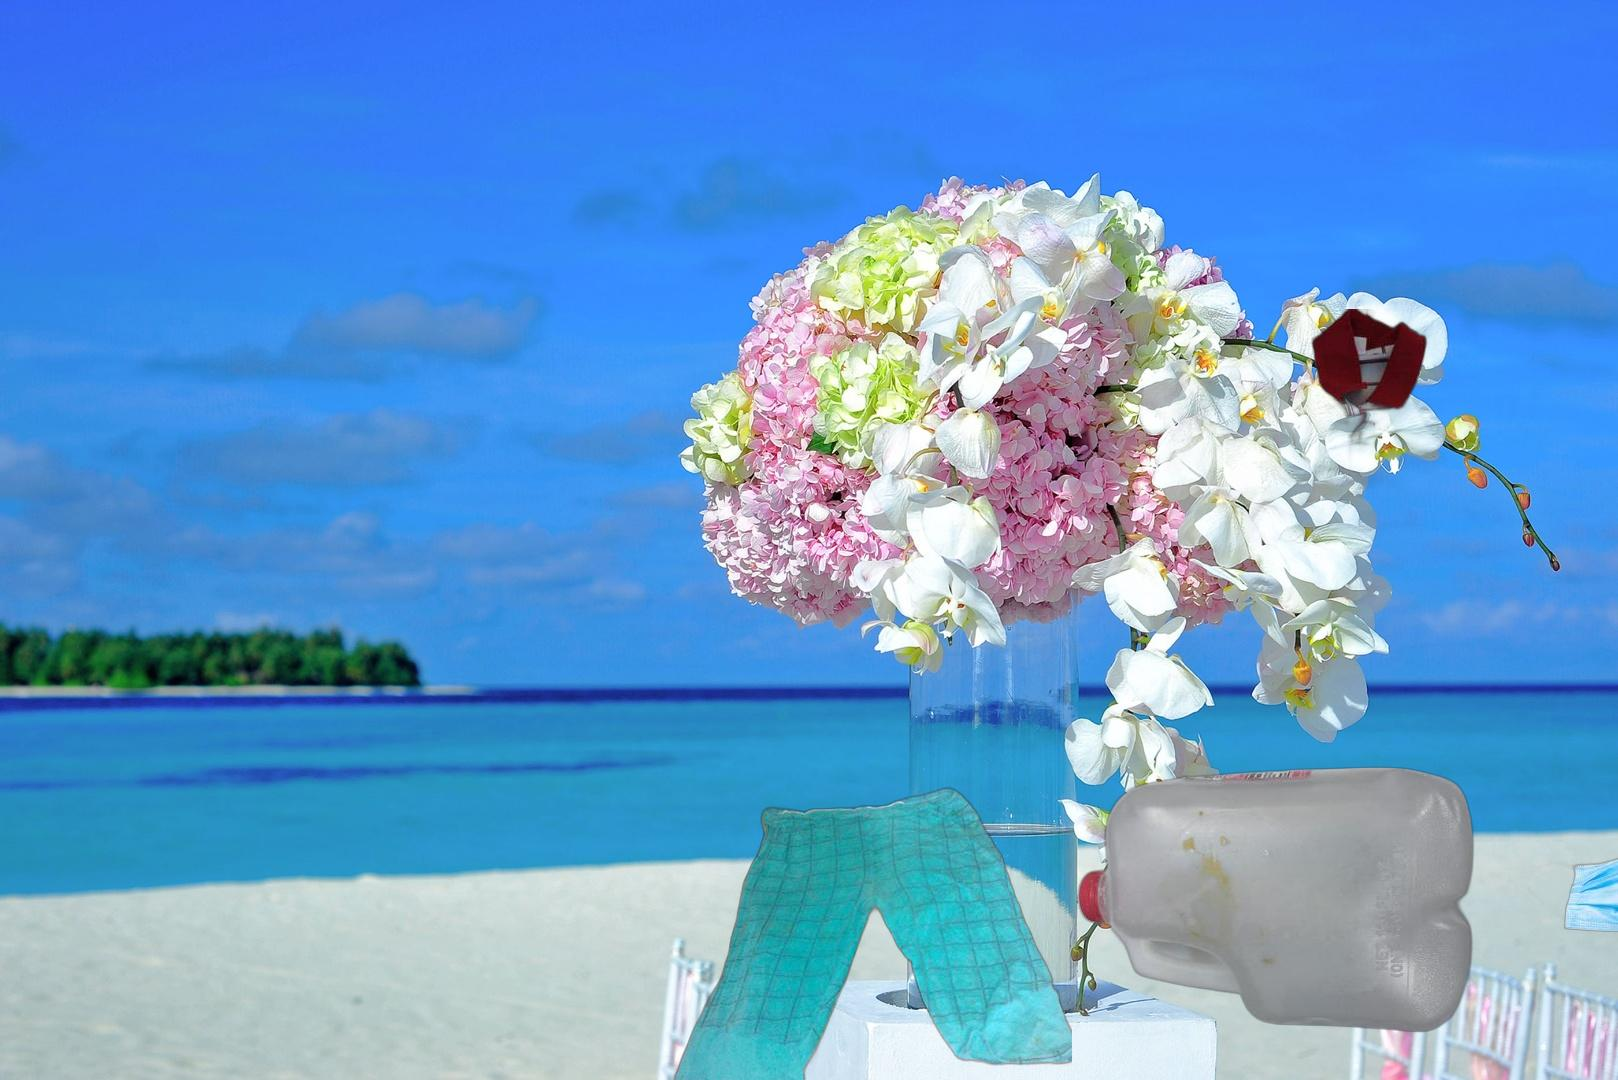clothes: (1163, 309, 1563, 843), (672, 783, 1072, 1080)
plastic-bottles: (1073, 764, 1478, 1034)
trash: (1526, 839, 1618, 935)
